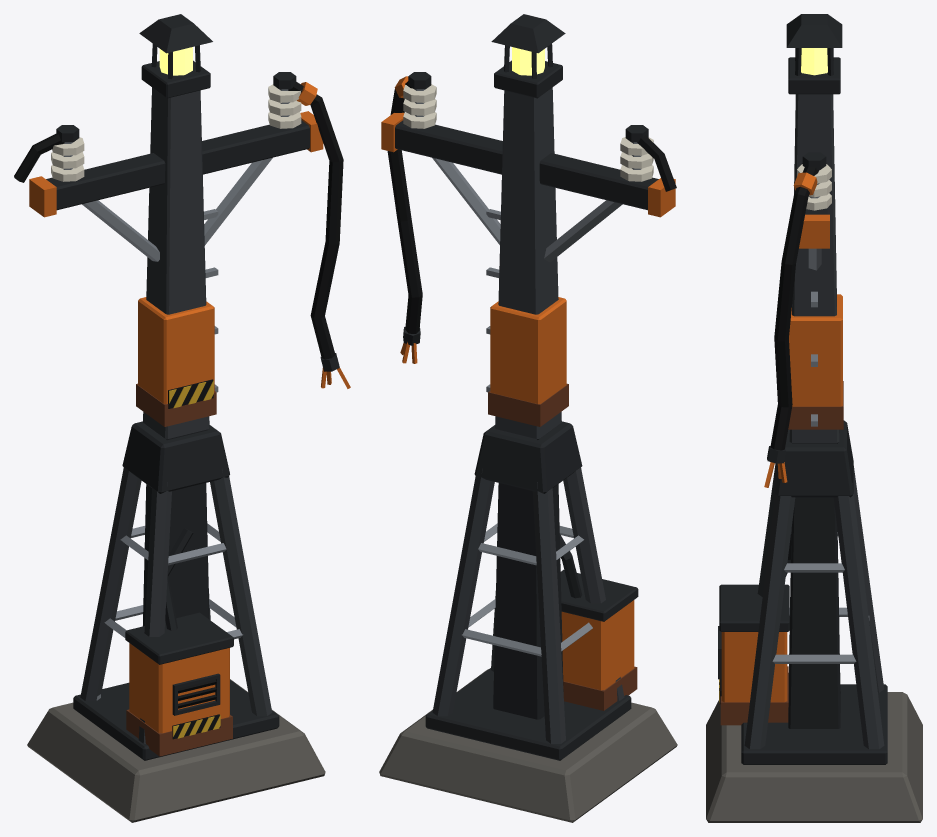
Rendered from desert_pylon.fbx.
3 views of the same model, side by side, from view 1: azimuth 30°, elevation 25°; view 2: azimuth 150°, elevation 25°; view 3: azimuth 270°, elevation 25° (orthographic). The views are drawn at different scales.
Parts seen in each view (by area): view 1: Body, Glow; view 2: Body, Glow; view 3: Body, Glow.
Boxes of the visible parts, x1,y1,x2,y2 form: Body: (14,14,350,822); Glow: (159,47,192,75); Body: (379,14,677,822); Glow: (512,47,544,75); Body: (706,14,922,822); Glow: (801,48,827,75).
Bounding box in the file's own units: 4.97 × 11.4 × 2.96.
Materials: 2 (1 with a texture image).
